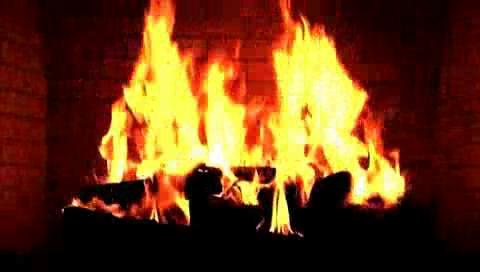fire: (109, 30, 397, 238)
